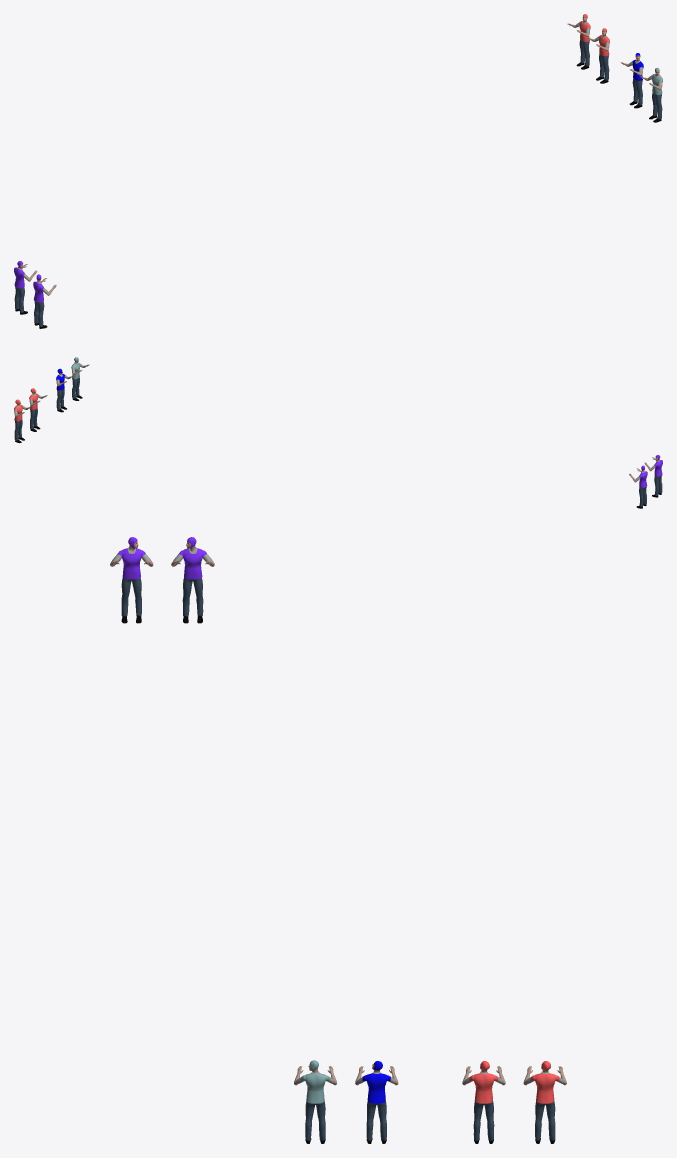
File: CVE_crew.glb
The picture shows the model from 3 angles, top to bottom: view 1: azimuth 30°, elevation 25°; view 2: azimuth 150°, elevation 25°; view 3: azimuth 270°, elevation 25°; orthographic projection. The views are drawn at different scales.
Parts seen in each view (by area): view 1: no part large enough to name; view 2: crew_purple.001, crew_purple, crew_blue, crew_red.001; view 3: crew_red.001, crew_purple.001, crew_green, crew_blue, crew_purple, crew_red.
Part boxes in pixels (x1=…): crew_purple.001: x1=654, y1=460, x2=662, y2=495; crew_purple: x1=639, y1=471, x2=647, y2=507; crew_blue: x1=56, y1=373, x2=64, y2=409; crew_red.001: x1=14, y1=404, x2=22, y2=440; crew_red.001: x1=535, y1=1073, x2=555, y2=1140; crew_purple.001: x1=121, y1=548, x2=141, y2=616; crew_green: x1=305, y1=1073, x2=325, y2=1140; crew_blue: x1=366, y1=1073, x2=386, y2=1140; crew_purple: x1=182, y1=548, x2=203, y2=616; crew_red: x1=473, y1=1073, x2=494, y2=1140.
Size of the model in its own units: 81.87 by 5.92 by 29.83.
Materials: 10 (1 with a texture image).
